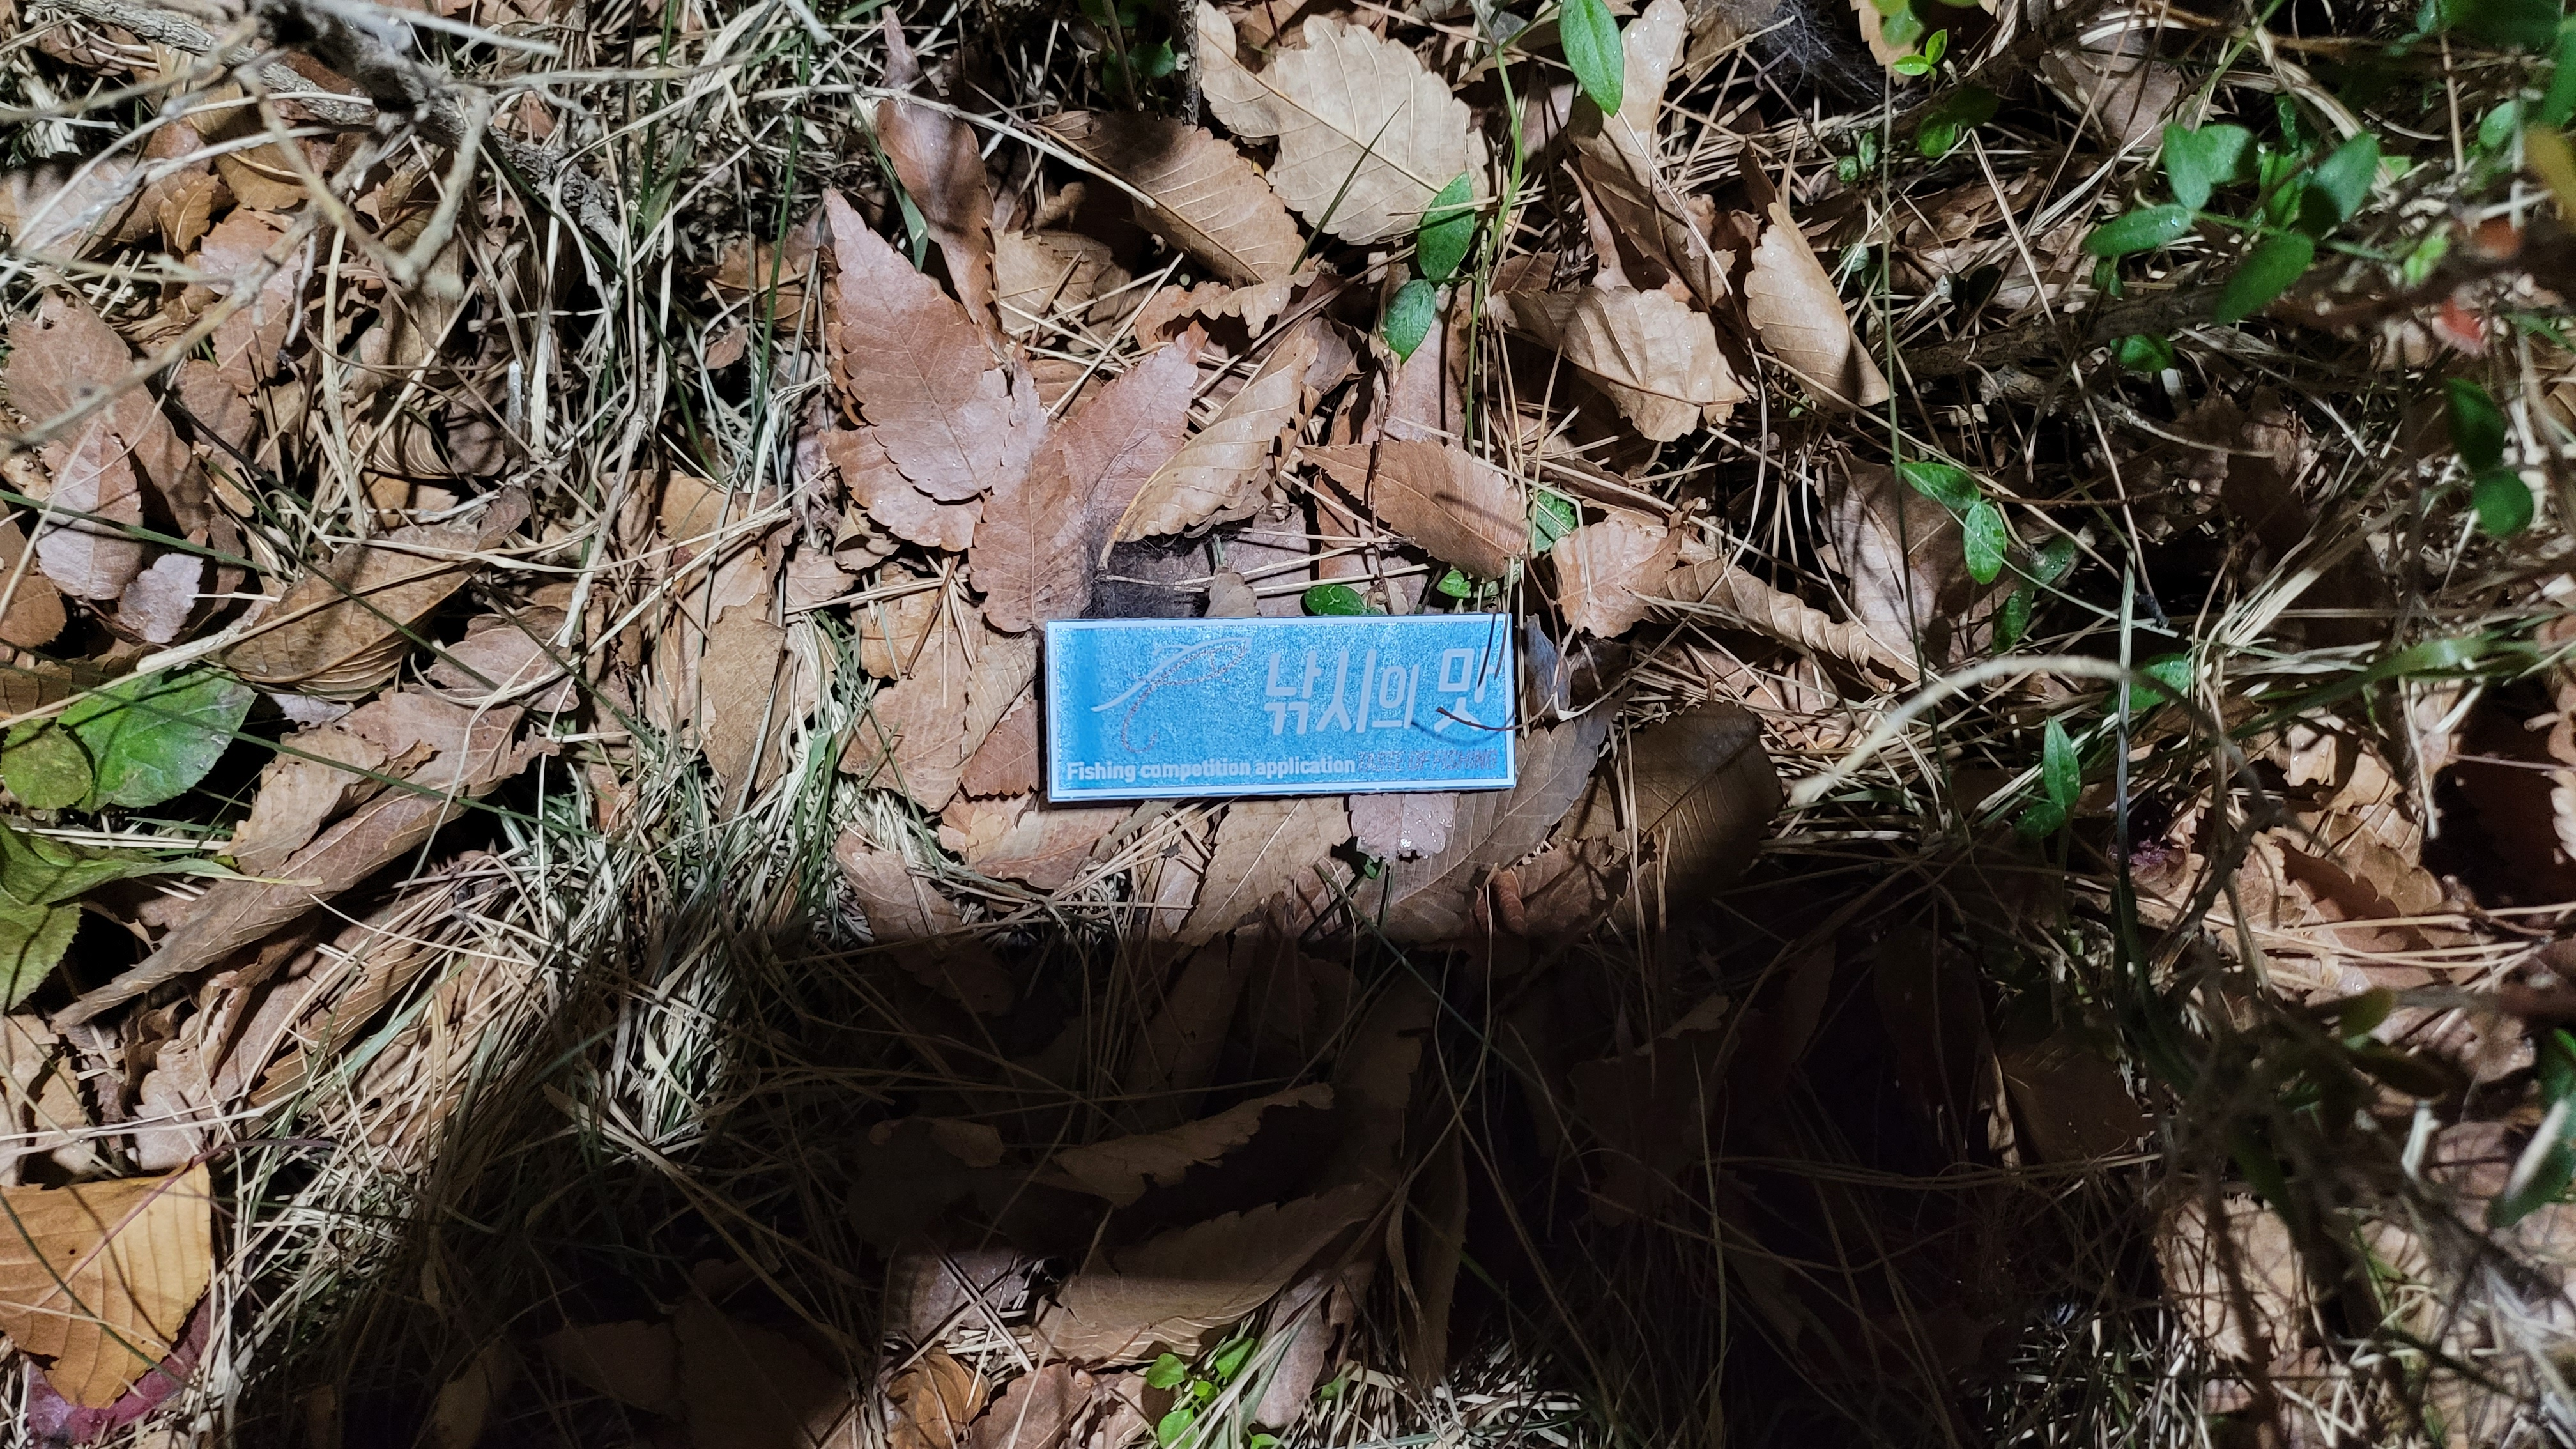tag: (1046, 625, 1518, 800)
